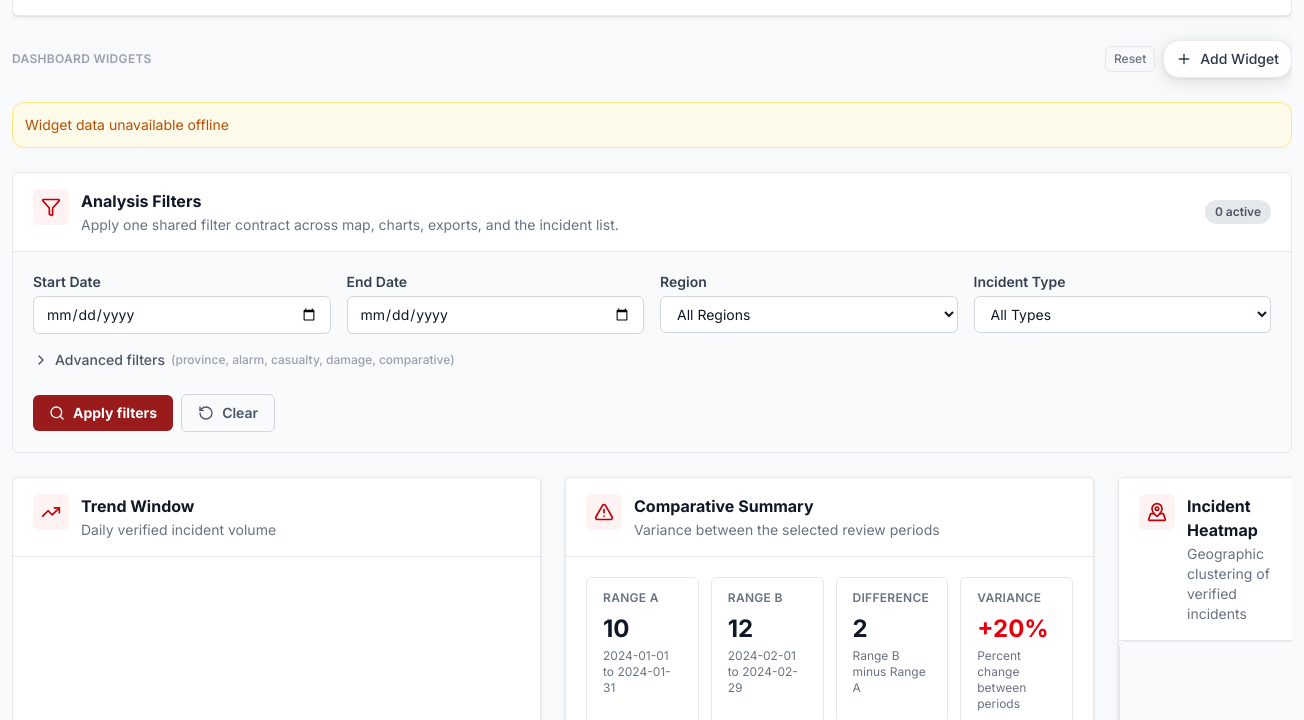
Test: Analyst dashboard — AQ-04: Casualty severity filter › renders casualty severity filter dropdown
This screenshot has width=1304, height=720.
(page scrolled)
// Progressive disclosure: click Advanced filters to reveal hidden controls
Click the button "Advanced filters": (244, 360) [33,350,455,370]
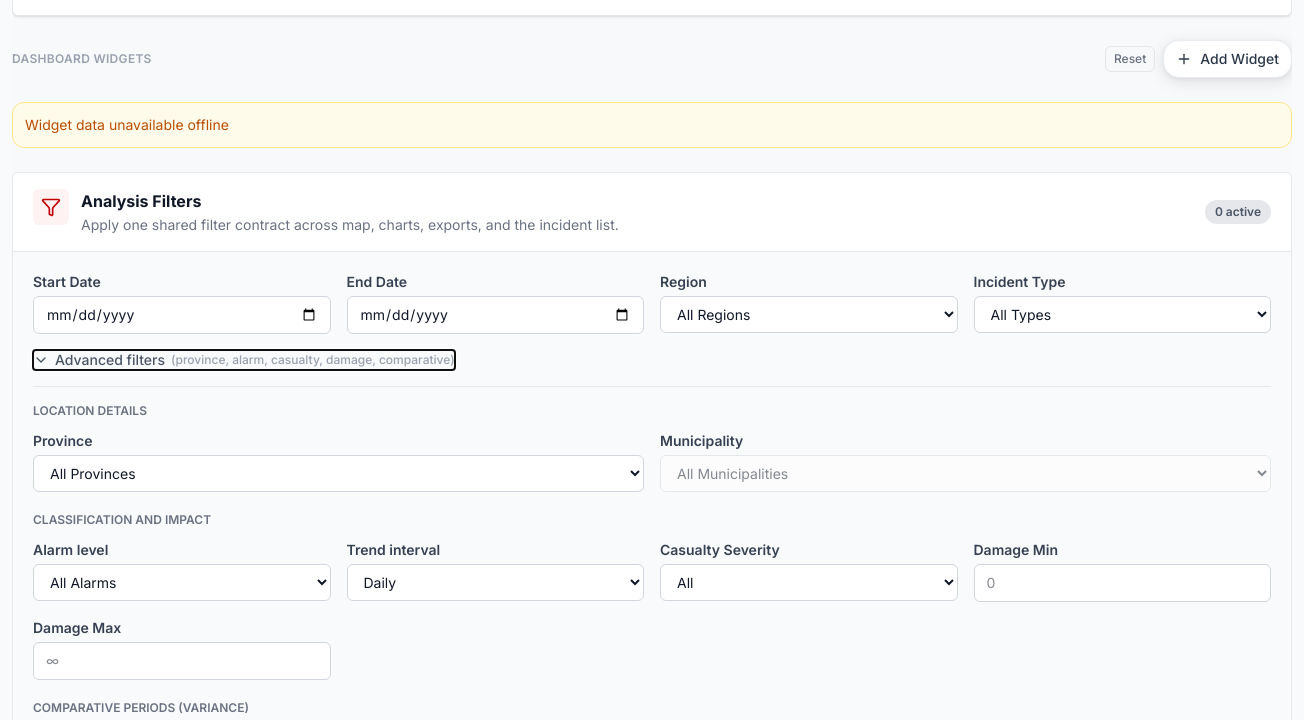
Check: the dropdown labelled "Casualty Severity" is shown, box [660,564,958,601]
